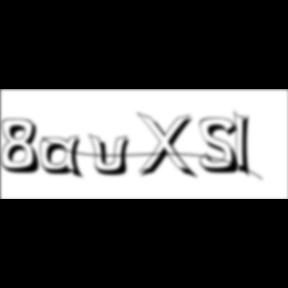8: (1, 117, 46, 176)
S: (200, 117, 246, 176)
X: (136, 112, 200, 182)
a: (41, 135, 89, 182)
l: (234, 108, 258, 182)
u: (88, 132, 136, 178)
